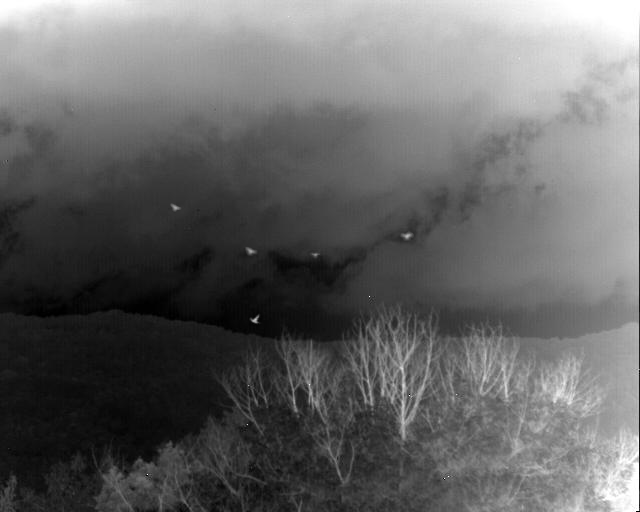plane: (245, 245, 257, 255), (170, 202, 181, 211), (401, 231, 413, 239), (311, 251, 321, 258)
